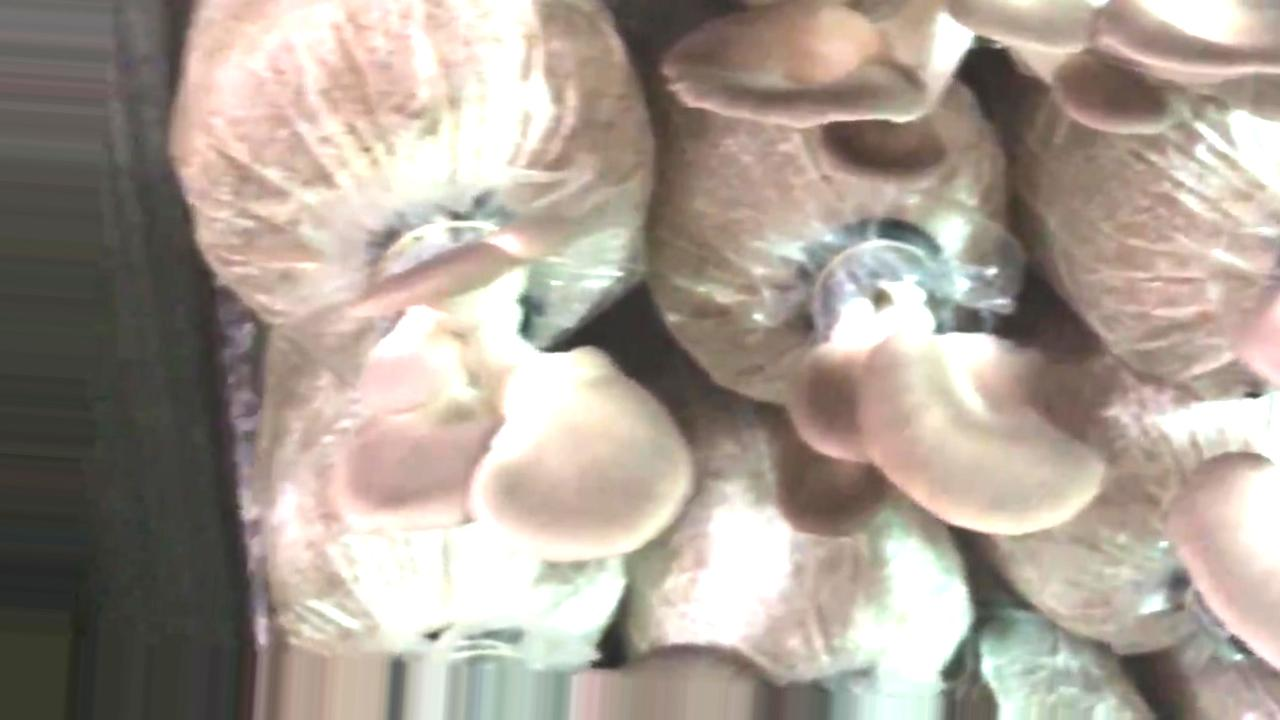nam: (328, 196, 706, 568), (664, 1, 1277, 193), (770, 223, 1111, 546), (1166, 449, 1280, 675)
